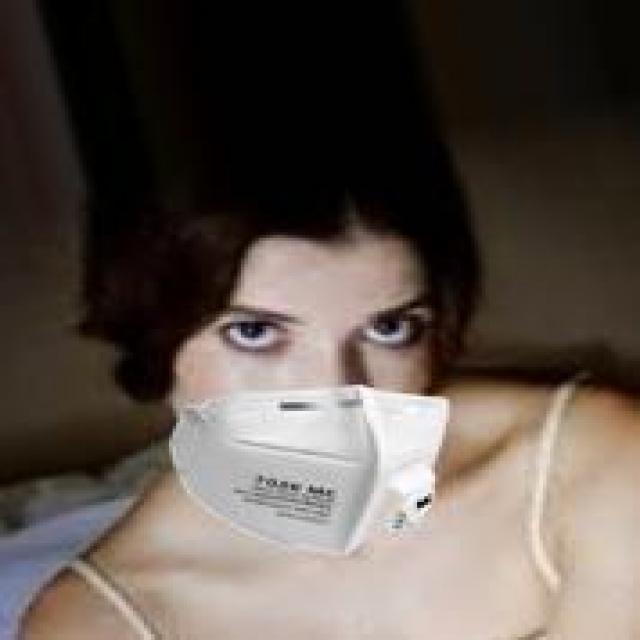mask: (86, 109, 489, 602)
